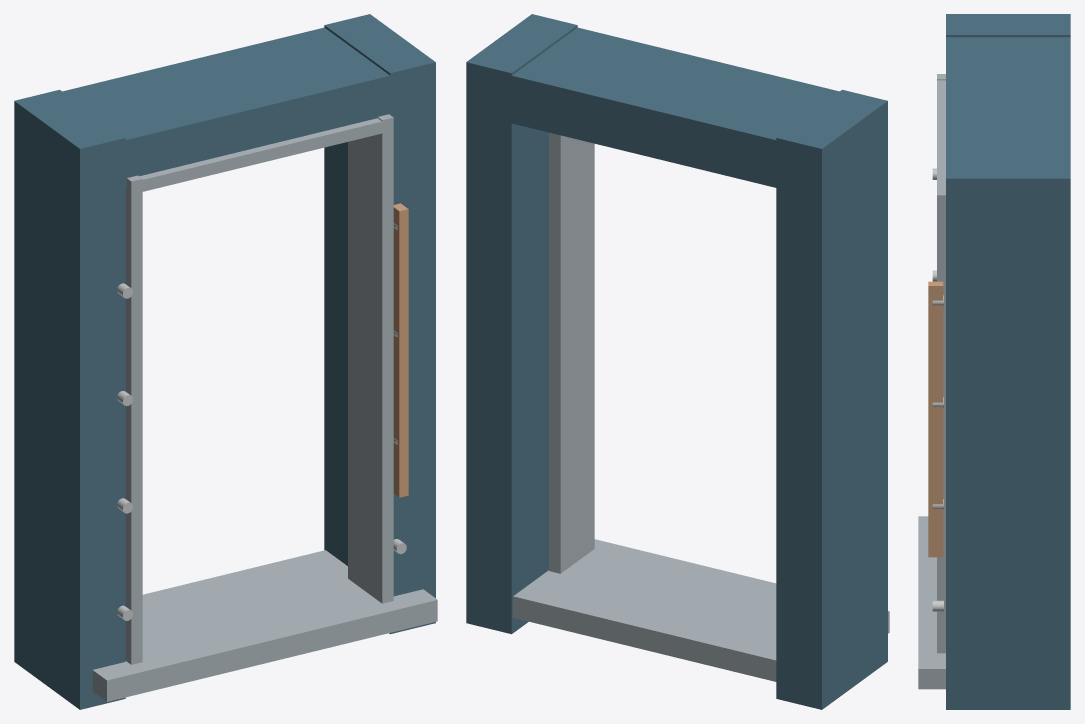
File: portal-plumbing-frame.glb
3 renders of one model, left to right at view 1: azimuth 30°, elevation 25°; view 2: azimuth 150°, elevation 25°; view 3: azimuth 270°, elevation 25°, orthographic. The views are drawn at different scales.
Parts seen in each view (by area): view 1: plumb_frame_left, plumb_frame_top, plumb_frame_right, plumb_threshold, plumb_steel_right, plumb_steel_left, plumb_copper_side, plumb_steel_head; view 2: plumb_frame_left, plumb_frame_right, plumb_frame_top, plumb_threshold, plumb_steel_right; view 3: plumb_frame_right, plumb_frame_top, plumb_copper_side, plumb_threshold, plumb_frame_left, plumb_steel_right, plumb_steel_head.
Part boxes in pixels (x1,y1,x2,y2): plumb_frame_left: (14,89,125,709); plumb_frame_top: (14,27,435,197); plumb_frame_right: (324,14,435,634); plumb_threshold: (92,550,437,701); plumb_steel_right: (348,114,393,603); plumb_steel_left: (125,175,142,664); plumb_copper_side: (393,203,408,497); plumb_steel_head: (126,118,393,193); plumb_frame_left: (776,89,887,709); plumb_frame_right: (466,14,577,634); plumb_frame_top: (466,27,887,198); plumb_threshold: (513,539,889,681); plumb_steel_right: (549,132,594,573); plumb_frame_right: (946,157,1070,709); plumb_frame_top: (946,37,1070,225); plumb_copper_side: (928,281,943,557); plumb_threshold: (918,516,945,689); plumb_frame_left: (946,14,1070,37); plumb_steel_right: (937,190,945,653); plumb_steel_head: (937,80,945,206).
Size of the model in its own units: 3.12 by 4.7 by 1.22.
